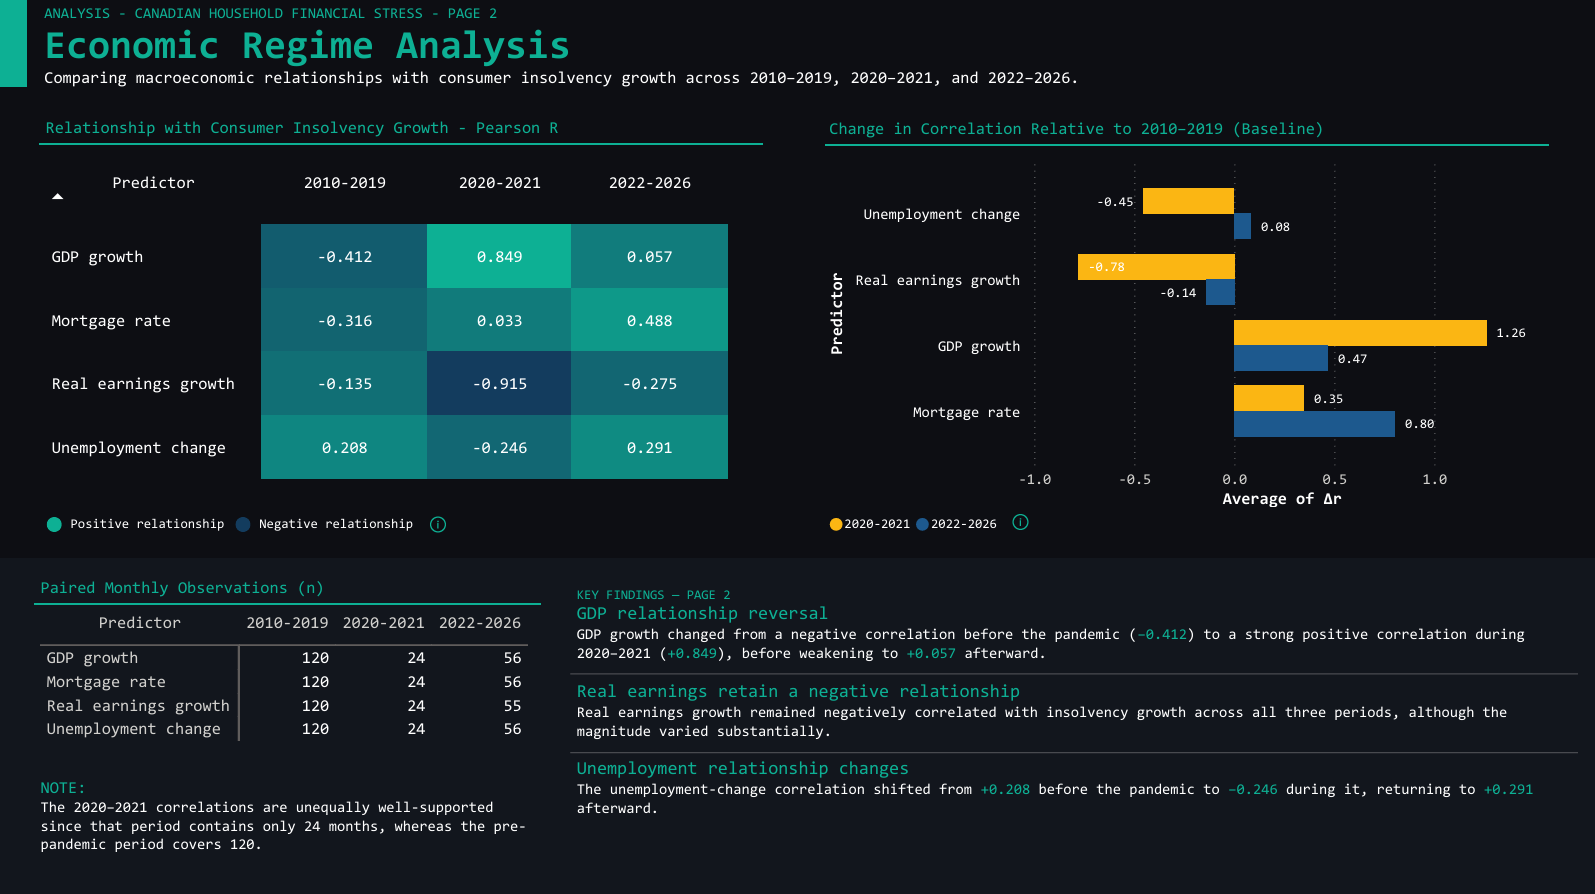

The dashboard page shown, as its layout file describes it:
{"tool":"powerbi","page":{"name":"Page 2","canvas":[1280,720],"ordinal":1},"visuals":[{"type":"textbox","box":[32,0,979,81],"z":0},{"type":"shape","box":[0,0,23,72],"z":1000},{"type":"pivotTable","title":"Relationship with Consumer Insolvency Growth - Pearson R","fields":{"Rows":["v_bi_regime_correlations.predictor"],"Columns":["v_bi_regime_correlations.economic_period"],"Values":["Sum(v_bi_regime_correlations.correlation_r)"]},"box":[33,97,579,324],"z":2000},{"type":"shape","box":[39,416,12,12],"z":3000},{"type":"textbox","box":[53,408,143,28],"z":4000},{"type":"shape","box":[190,416,12,12],"z":5000},{"type":"shape","box":[0,449,1280,271],"z":6000},{"type":"textbox","box":[204,408,146,28],"z":7000},{"type":"clusteredBarChart","title":"Change in Correlation Relative to 2010–2019 (Baseline)","fields":{"Category":["v_bi_regime_shifts.predictor"],"Series":["v_bi_regime_shifts.economic_period"],"Y":["Avg(v_bi_regime_shifts.delta_r)"]},"box":[662,98,579,336],"z":8000},{"type":"pivotTable","title":"Paired Monthly Observations (n)","fields":{"Rows":["v_bi_regime_correlations.Predictor"],"Columns":["v_bi_regime_correlations.economic_period"],"Values":["Sum(v_bi_regime_correlations.paired_months)"]},"box":[29,465,405,144],"z":9000},{"type":"textbox","box":[29,620,405,86],"z":10000},{"type":"textbox","box":[458,465,806,204],"z":11000},{"type":"shape","box":[458,532,806,19],"z":12000},{"type":"shape","box":[458,595,806,19],"z":13000},{"type":"actionButton","box":[341,411,22,22],"z":14000},{"type":"actionButton","box":[807,409,22,22],"z":15000}]}

Visuals, with their boxes in screenshot pixels (x1, y1, x2, y2), scaled from the page's 1280x720 canvas onto the 1595x894 screenshot:
textbox: {"left": 40, "top": 0, "right": 1260, "bottom": 101}
shape: {"left": 0, "top": 0, "right": 29, "bottom": 89}
"Relationship with Consumer Insolvency Growth - Pearson R" pivotTable: {"left": 41, "top": 120, "right": 763, "bottom": 523}
shape: {"left": 49, "top": 517, "right": 64, "bottom": 531}
textbox: {"left": 66, "top": 507, "right": 244, "bottom": 541}
shape: {"left": 237, "top": 517, "right": 252, "bottom": 531}
shape: {"left": 0, "top": 558, "right": 1594, "bottom": 893}
textbox: {"left": 254, "top": 507, "right": 436, "bottom": 541}
"Change in Correlation Relative to 2010–2019 (Baseline)" clusteredBarChart: {"left": 825, "top": 122, "right": 1546, "bottom": 539}
"Paired Monthly Observations (n)" pivotTable: {"left": 36, "top": 577, "right": 541, "bottom": 756}
textbox: {"left": 36, "top": 770, "right": 541, "bottom": 877}
textbox: {"left": 571, "top": 577, "right": 1575, "bottom": 831}
shape: {"left": 571, "top": 661, "right": 1575, "bottom": 684}
shape: {"left": 571, "top": 739, "right": 1575, "bottom": 762}
actionButton: {"left": 425, "top": 510, "right": 452, "bottom": 538}
actionButton: {"left": 1006, "top": 508, "right": 1033, "bottom": 535}
